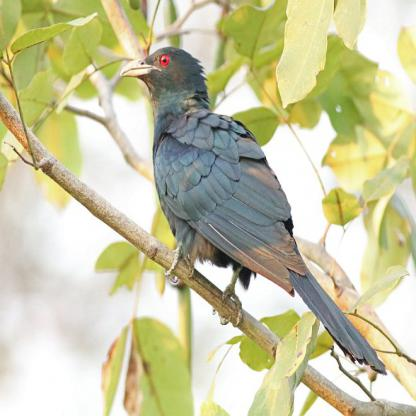Burung: (118, 46, 387, 375)
